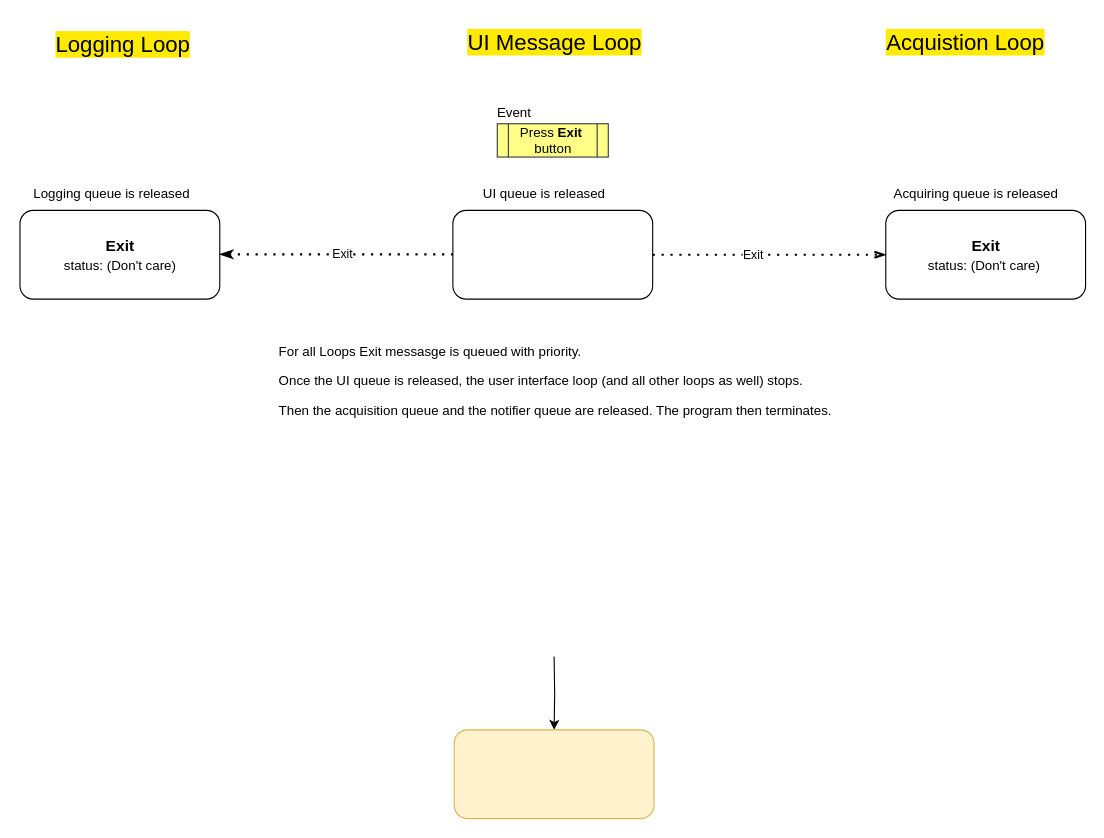
Image size: 1104x838. Some labels were removed from this diagram. Here are the shapes that lost their labels. From the top down, the box of each, then its label:
(452, 209, 653, 299): Exit status: Idle
(453, 729, 654, 819): Update Status "Ready..." status: Idle
